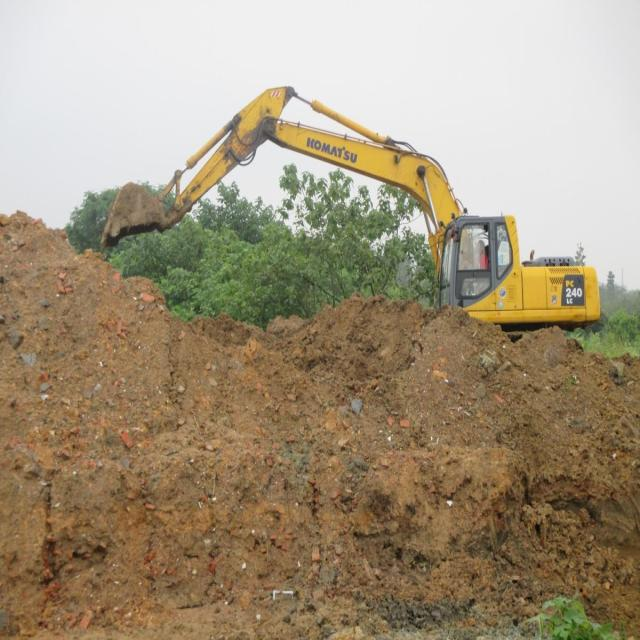excavator: (92, 76, 607, 369)
